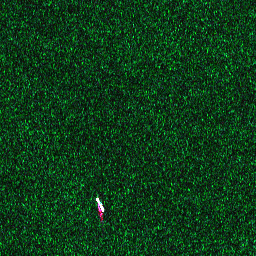ship: (93, 195, 108, 215)
